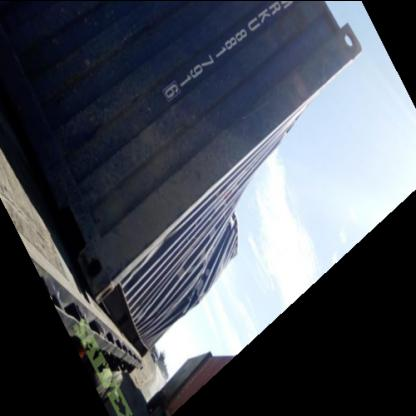Damage: (159, 228, 249, 336)
